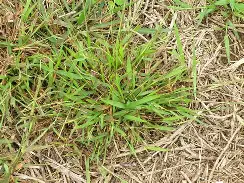weed: (0, 0, 200, 181), (0, 0, 193, 180), (196, 0, 243, 62)
